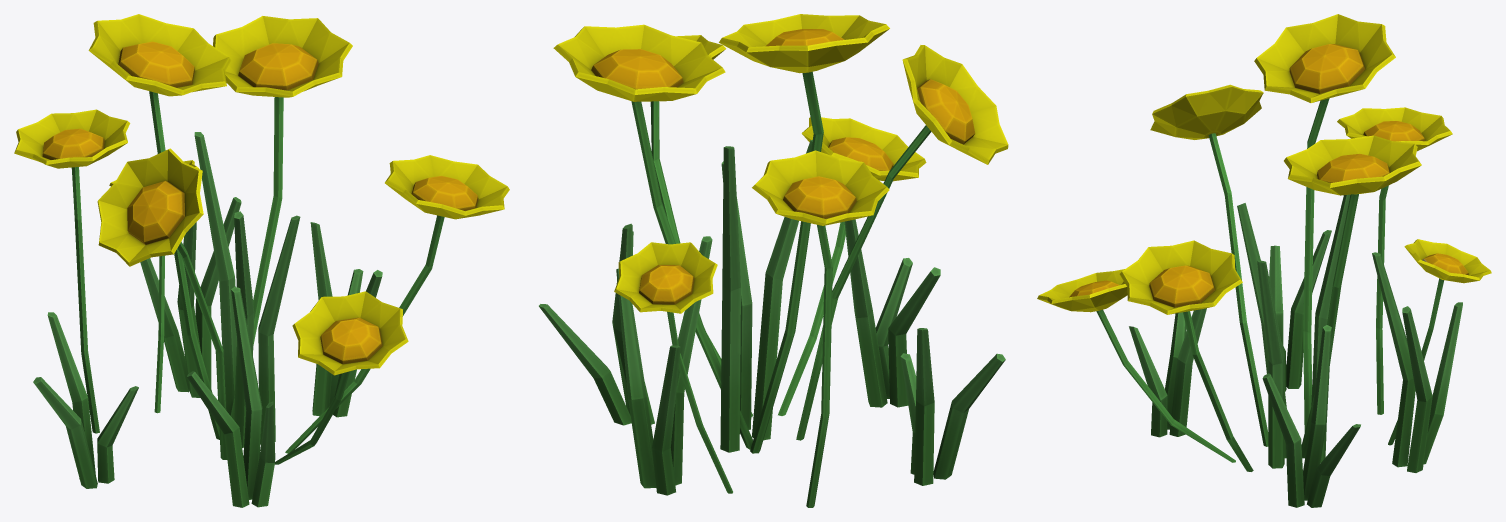
Rendered from marigold.512.glb.
The picture shows the model from 3 angles, left to right: view 1: azimuth 30°, elevation 25°; view 2: azimuth 150°, elevation 25°; view 3: azimuth 270°, elevation 25°; orthographic projection. The views are drawn at different scales.
Parts seen in each view (by area): view 1: DesertMarigold_mesh; view 2: DesertMarigold_mesh; view 3: DesertMarigold_mesh.
Part boxes in pixels (x1,y1,x2,y2): DesertMarigold_mesh: (14,14,509,507); DesertMarigold_mesh: (539,14,1008,507); DesertMarigold_mesh: (1037,14,1491,507).
Bounding box in the file's own units: 6.62 × 6.2 × 6.55.
1 material, 1 textured.
